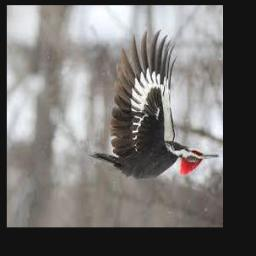Woodpecker: (90, 32, 220, 178)
